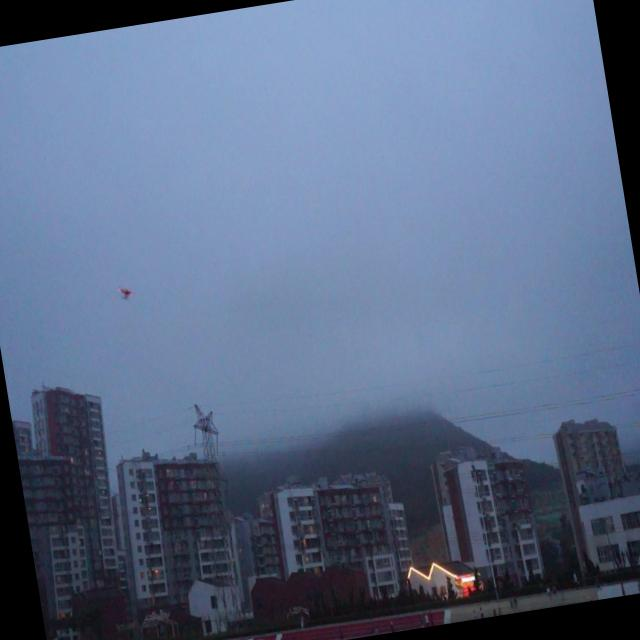drone: (115, 282, 138, 306)
